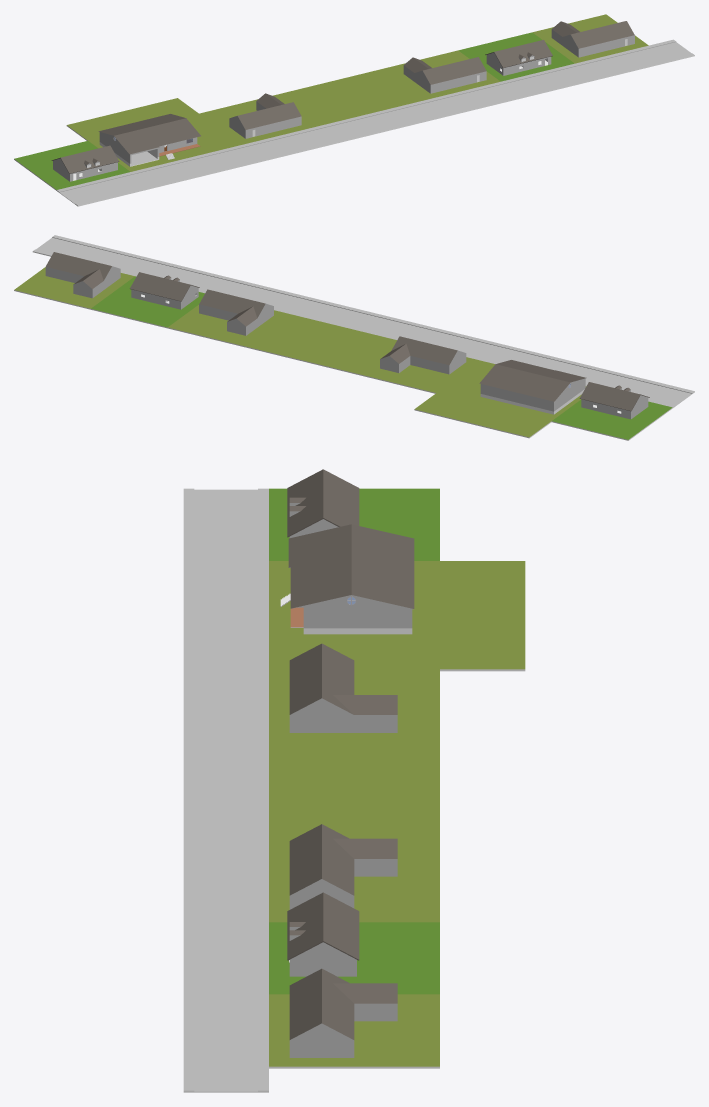
3 renders of one model, top to bottom at view 1: azimuth 30°, elevation 25°; view 2: azimuth 150°, elevation 25°; view 3: azimuth 270°, elevation 25°, orthographic. The views are drawn at different scales.
Parts seen in each view (by area): view 1: Mesh59 Model, Mesh14 foundation1 Group1 house_2_1 Model, Mesh1 Stormrunner_house1 Model, Mesh40 basic_house2 Model, Mesh37 basic_house1 Model, Mesh56 basic_house3 Model, Mesh43 Stormrunner_house2 Model, Mesh22 Gable_Roof1 Group1 house_2_1 Model, Mesh18 G_1st_Floor1 Group1 house_2_1 Model; view 2: Mesh59 Model, Mesh14 foundation1 Group1 house_2_1 Model, Mesh1 Stormrunner_house1 Model, Mesh37 basic_house1 Model, Mesh40 basic_house2 Model, Mesh56 basic_house3 Model, Mesh43 Stormrunner_house2 Model, Mesh22 Gable_Roof1 Group1 house_2_1 Model, Mesh18 G_1st_Floor1 Group1 house_2_1 Model; view 3: Mesh59 Model, Mesh14 foundation1 Group1 house_2_1 Model, Mesh56 basic_house3 Model, Mesh37 basic_house1 Model, Mesh40 basic_house2 Model, Mesh43 Stormrunner_house2 Model, Mesh22 Gable_Roof1 Group1 house_2_1 Model, Mesh1 Stormrunner_house1 Model, Mesh18 G_1st_Floor1 Group1 house_2_1 Model.
Boxes of the visible parts, <box> form: Mesh59 Model: <box>56,39,694,206</box>; Mesh14 foundation1 Group1 house_2_1 Model: <box>66,98,241,171</box>; Mesh1 Stormrunner_house1 Model: <box>14,141,130,190</box>; Mesh40 basic_house2 Model: <box>384,50,500,99</box>; Mesh37 basic_house1 Model: <box>199,93,315,144</box>; Mesh56 basic_house3 Model: <box>532,14,648,63</box>; Mesh43 Stormrunner_house2 Model: <box>458,32,574,81</box>; Mesh22 Gable_Roof1 Group1 house_2_1 Model: <box>98,114,200,155</box>; Mesh18 G_1st_Floor1 Group1 house_2_1 Model: <box>99,133,200,163</box>; Mesh59 Model: <box>32,235,694,407</box>; Mesh14 foundation1 Group1 house_2_1 Model: <box>414,360,586,438</box>; Mesh1 Stormrunner_house1 Model: <box>551,382,672,440</box>; Mesh37 basic_house1 Model: <box>359,336,480,393</box>; Mesh40 basic_house2 Model: <box>167,289,288,346</box>; Mesh56 basic_house3 Model: <box>14,252,134,309</box>; Mesh43 Stormrunner_house2 Model: <box>90,272,204,328</box>; Mesh22 Gable_Roof1 Group1 house_2_1 Model: <box>479,360,586,402</box>; Mesh18 G_1st_Floor1 Group1 house_2_1 Model: <box>480,380,585,411</box>; Mesh59 Model: <box>183,488,439,1092</box>; Mesh14 foundation1 Group1 house_2_1 Model: <box>269,561,525,671</box>; Mesh56 basic_house3 Model: <box>269,968,439,1068</box>; Mesh37 basic_house1 Model: <box>269,643,439,741</box>; Mesh40 basic_house2 Model: <box>269,824,439,922</box>; Mesh43 Stormrunner_house2 Model: <box>269,892,439,994</box>; Mesh22 Gable_Roof1 Group1 house_2_1 Model: <box>288,524,414,611</box>; Mesh1 Stormrunner_house1 Model: <box>269,469,439,560</box>; Mesh18 G_1st_Floor1 Group1 house_2_1 Model: <box>290,607,412,628</box>.
Size of the model in its own units: 200 by 6.55 by 48.
